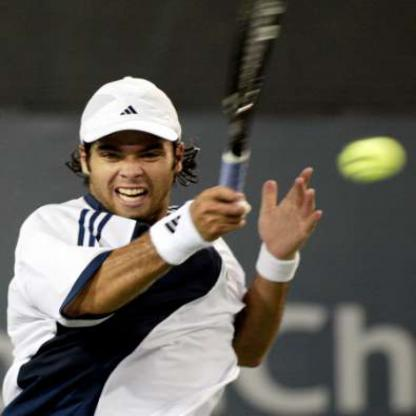face: (89, 90, 176, 220)
